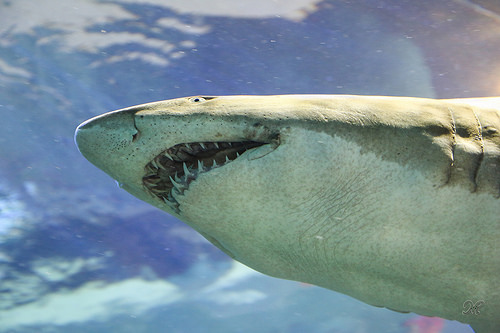shark: (54, 56, 495, 326)
